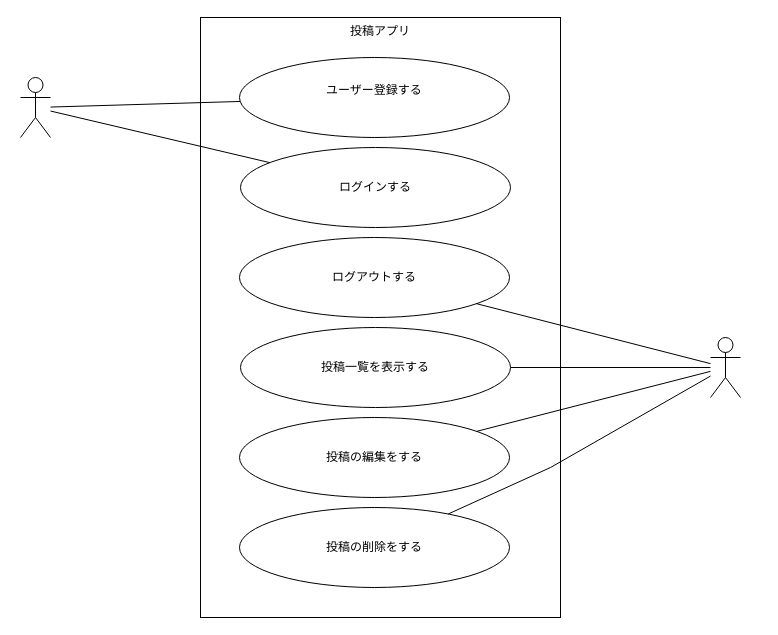
Some shapes in this 778 by 635 pixel diagram are drawn without their labels. The shapes that lost their labels are listed below. From the top down, each one's centre as x and y in pixels, then its label:
At (x=35, y=107): "訪問者".
At (x=725, y=367): "ログイン済み 利用者".
